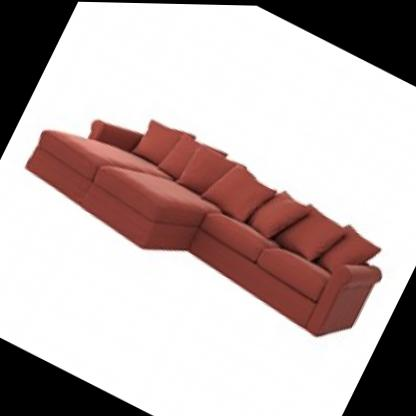Sofa: (0, 36, 415, 367)
